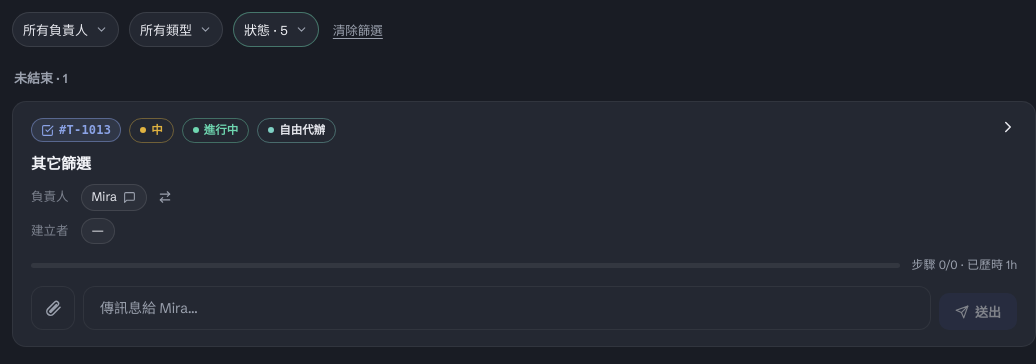
Test case: T-17be ③ 執行者篩選文案「所有負責人」 › leaves 所有類型 / 所有狀態 alone — the ambiguity was 「所有人」's alone
expect the button with test id "filter-type" reads "所有類型": met, box [129,12,223,47]
Click the button with test id "clear-filters". click: (358, 30)
box: [329,14,387,45]
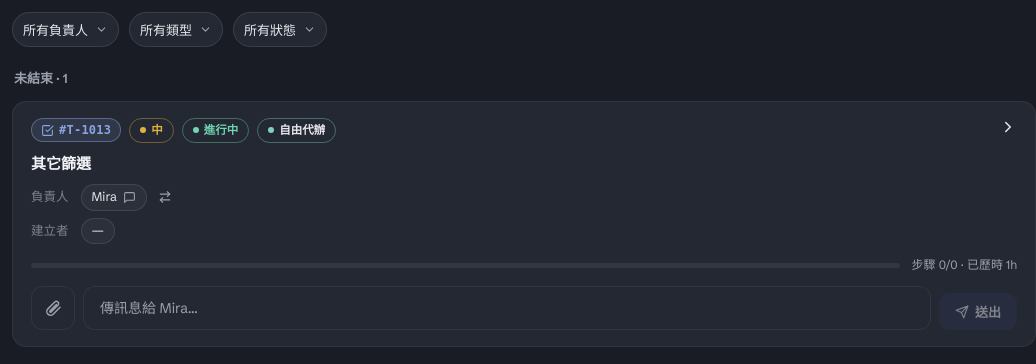
expect the button with test id "filter-status" reads "所有狀態": met, box [233,12,327,47]
